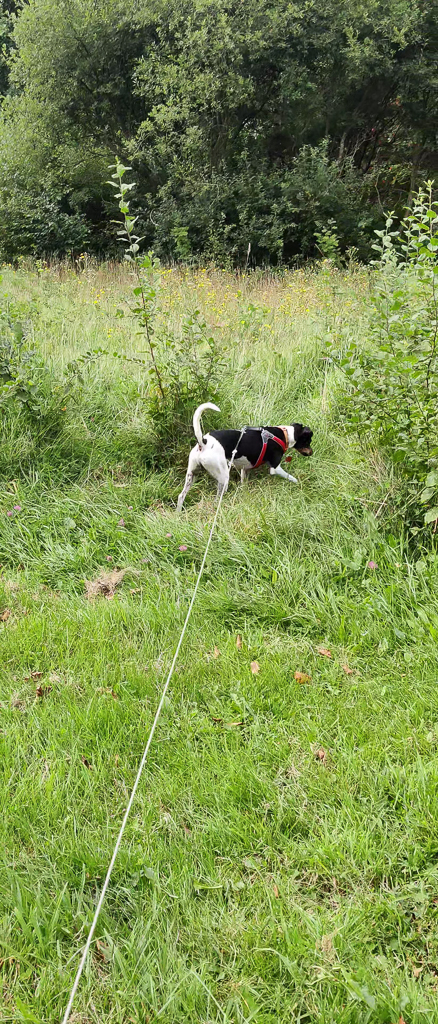Dog: (163, 398, 336, 522)
